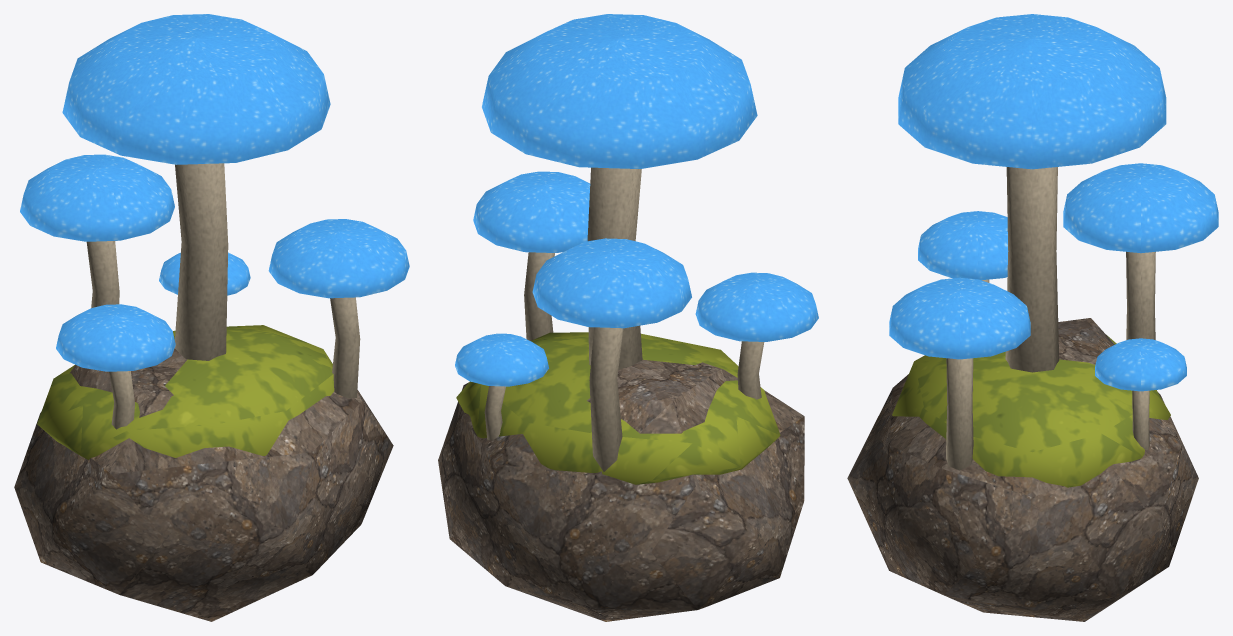
Rendered from glow_mushrooms.glb.
3 renders of one model, left to right at view 1: azimuth 30°, elevation 25°; view 2: azimuth 150°, elevation 25°; view 3: azimuth 270°, elevation 25°, orthographic. The views are drawn at different scales.
Parts seen in each view (by area): view 1: glow_mushrooms_rock, glow_mushrooms_mushrooms; view 2: glow_mushrooms_rock, glow_mushrooms_mushrooms; view 3: glow_mushrooms_mushrooms, glow_mushrooms_rock.
Boxes of the visible parts, x1,y1,x2,y2 form: glow_mushrooms_rock: (14, 325, 393, 621); glow_mushrooms_mushrooms: (20, 14, 409, 429); glow_mushrooms_rock: (438, 332, 804, 621); glow_mushrooms_mushrooms: (455, 14, 818, 471); glow_mushrooms_mushrooms: (889, 14, 1218, 470); glow_mushrooms_rock: (847, 318, 1198, 621).
Size of what is drawn, in the model's own units: 1.07 by 1.72 by 1.03.
Materials: 4 (4 with a texture image).
